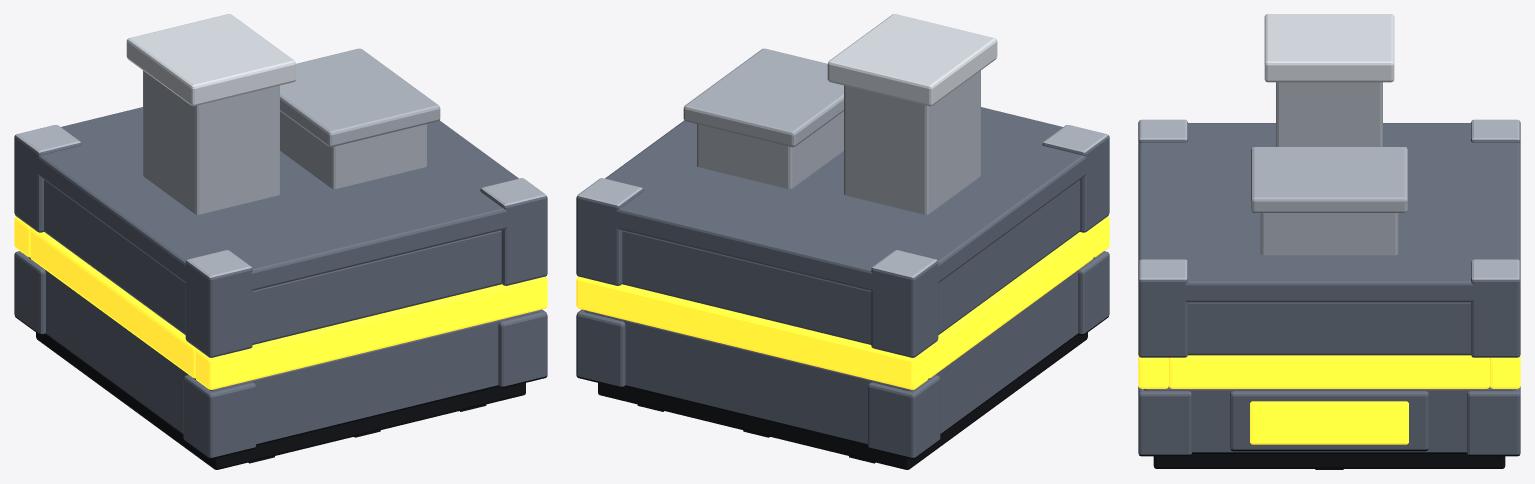
The model's file is furnace.glb.
3 renders of one model, left to right at view 1: azimuth 30°, elevation 25°; view 2: azimuth 150°, elevation 25°; view 3: azimuth 270°, elevation 25°, orthographic. The views are drawn at different scales.
Parts seen in each view (by area): view 1: furnace; view 2: furnace; view 3: furnace.
Boxes of the visible parts, bbox=[...] form: furnace: bbox=[14, 14, 547, 469]; furnace: bbox=[576, 14, 1109, 469]; furnace: bbox=[1138, 14, 1520, 469].
Bounding box in the file's own units: 2 × 1.9 × 2.
